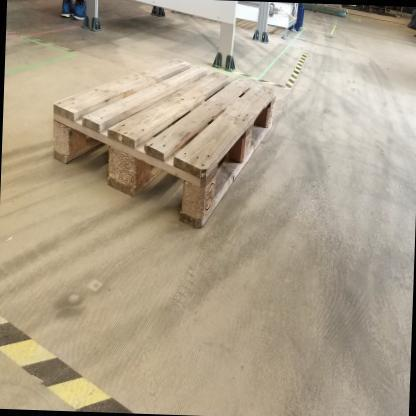pallet: (52, 60, 279, 228)
